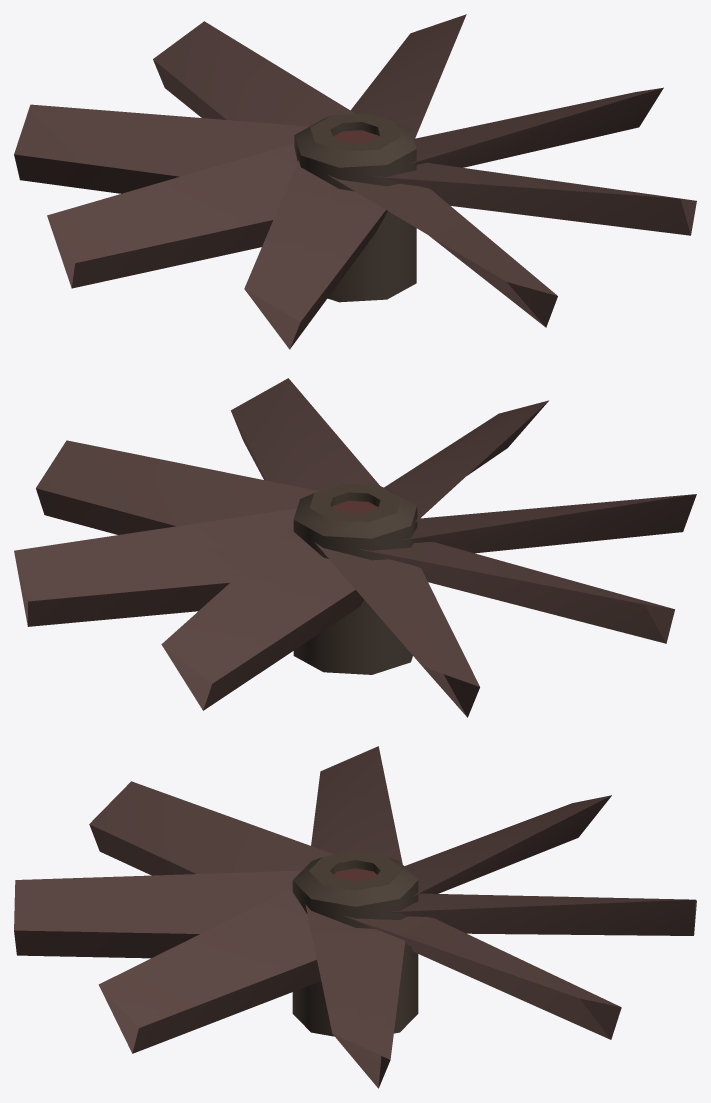
The model's file is TFan_D.fbx.
The picture shows the model from 3 angles, top to bottom: view 1: azimuth 30°, elevation 25°; view 2: azimuth 150°, elevation 25°; view 3: azimuth 270°, elevation 25°; orthographic projection. The views are drawn at different scales.
Visible parts, largest first — view 1: TFan_D; view 2: TFan_D; view 3: TFan_D.
Boxes of the visible parts, box(x1,y1,x2,y2) form: TFan_D: box(14, 14, 696, 349); TFan_D: box(14, 378, 696, 717); TFan_D: box(14, 746, 696, 1088).
Bounding box in the file's own units: 86.98 × 20.08 × 86.98.
